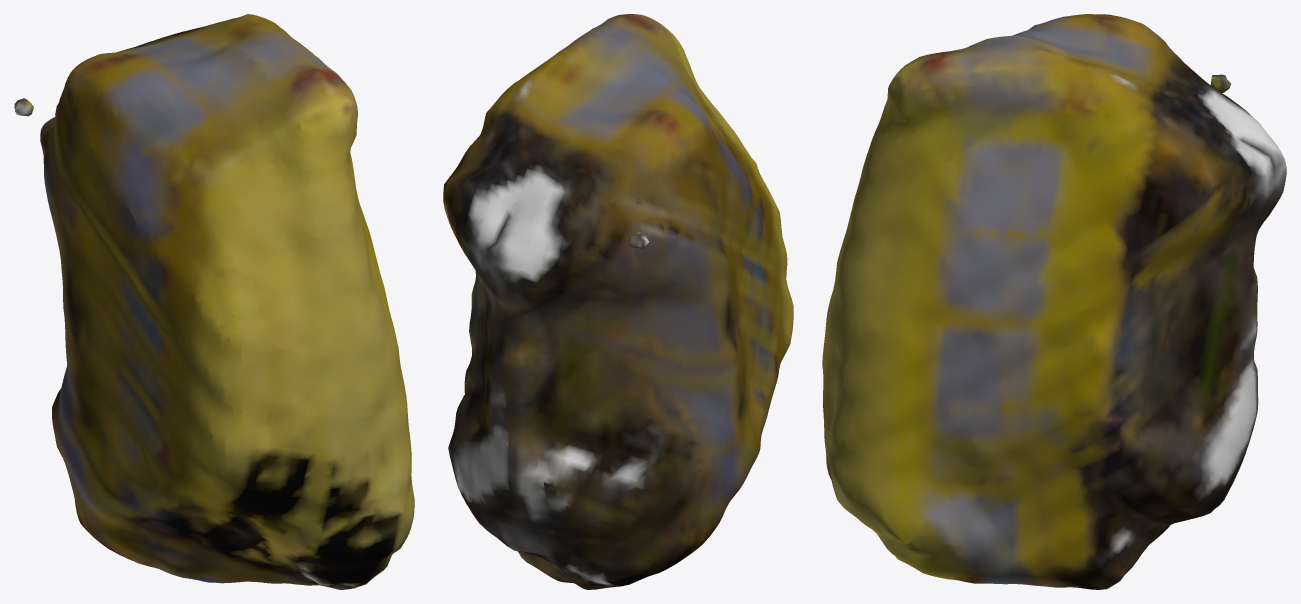
File: school_bus1.glb
The picture shows the model from 3 angles, left to right: view 1: azimuth 30°, elevation 25°; view 2: azimuth 150°, elevation 25°; view 3: azimuth 270°, elevation 25°; orthographic projection. The views are drawn at different scales.
Size of the model in its own units: 0.5111 by 1 by 0.7787.
